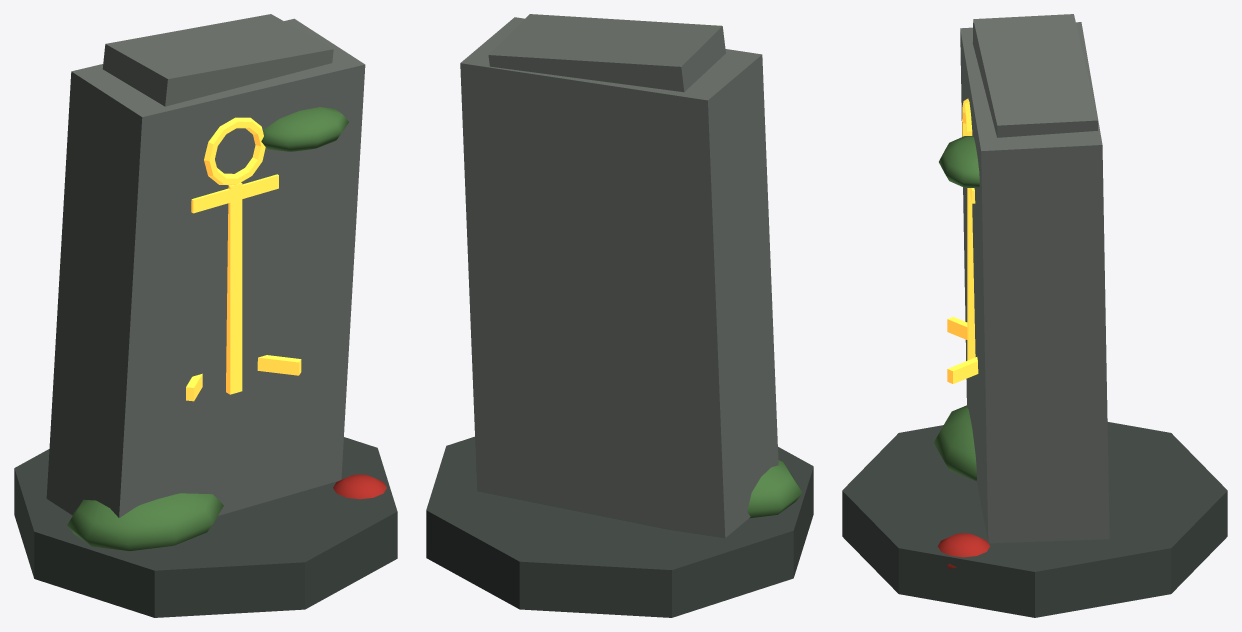
Rendered from Build_Lobby_MapStone_AshGardens.glb.
3 views of the same model, side by side, from view 1: azimuth 30°, elevation 25°; view 2: azimuth 150°, elevation 25°; view 3: azimuth 270°, elevation 25° (orthographic). The views are drawn at different scales.
Visible parts, largest first — view 1: Build_Lobby_MapStone_AshGardens; view 2: Build_Lobby_MapStone_AshGardens; view 3: Build_Lobby_MapStone_AshGardens.
Boxes of the visible parts, <box> form: Build_Lobby_MapStone_AshGardens: <box>14,14,397,617</box>; Build_Lobby_MapStone_AshGardens: <box>426,14,813,617</box>; Build_Lobby_MapStone_AshGardens: <box>842,14,1227,617</box>.
Bounding box in the file's own units: 3.8 × 5.27 × 3.8.
